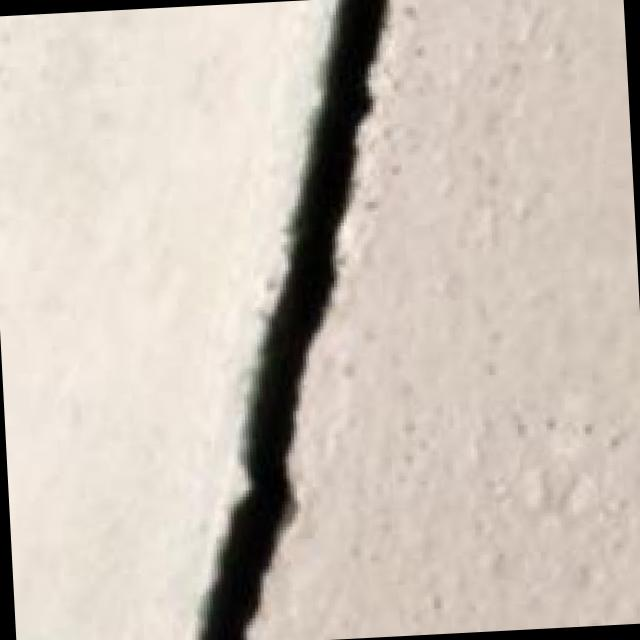crack: (160, 0, 490, 640)
